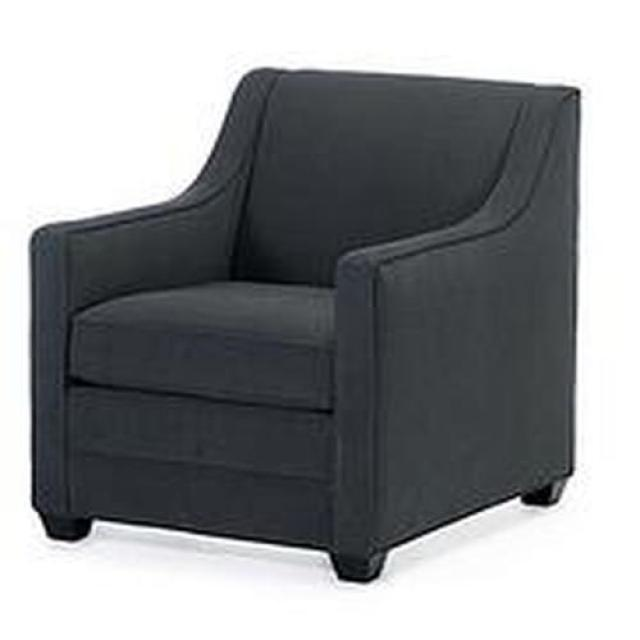sofa: (29, 69, 580, 586)
